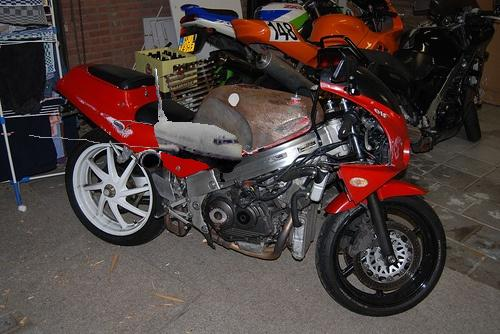tampered: (30, 69, 242, 182)
